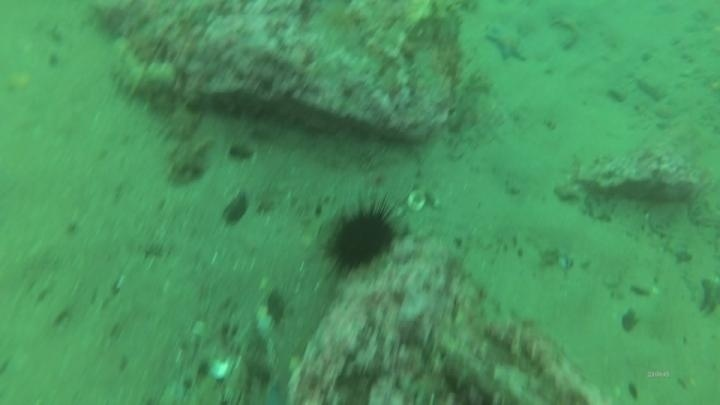echinus: (320, 199, 403, 276)
holothurian: (106, 36, 182, 103)
starfish: (482, 21, 531, 66)
